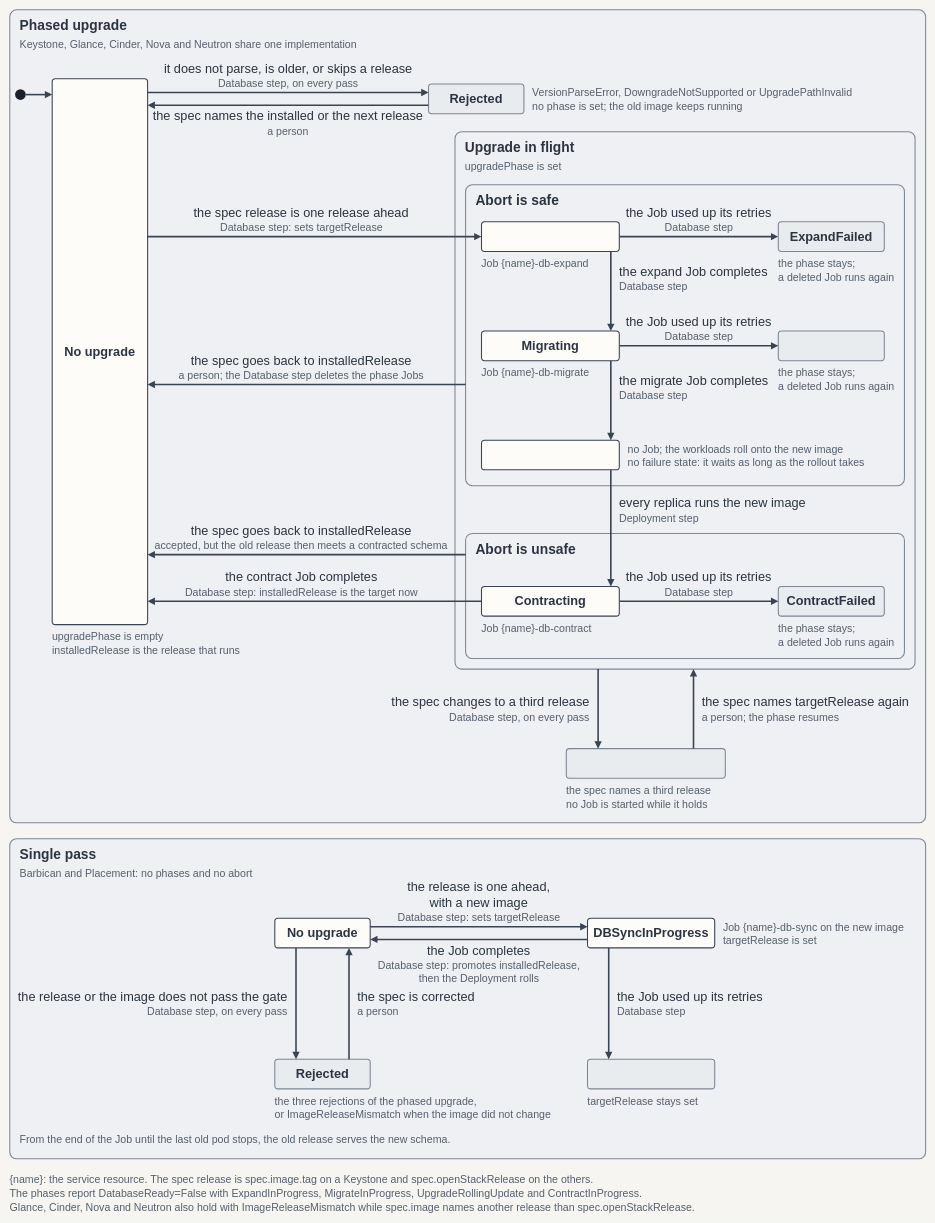
This 935x1223 diagram has some shape labels left out. Here are the shapes that lost their labels. From the top down, the centre of each, then its label:
At point (550, 236): "Expanding".
At point (831, 345): "MigrateFailed".
At point (550, 454): "RollingUpdate".
At point (646, 763): "UpgradeTargetChanged".
At point (651, 1073): "DBSyncFailed".
